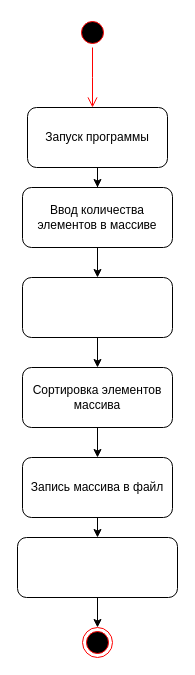
This 195x675 diagram has some shape labels left out. Each missing label, with the centre of its shape:
"Ввод элементов массива" goes at point (97, 307).
"Выход из программы" goes at point (97, 567).
